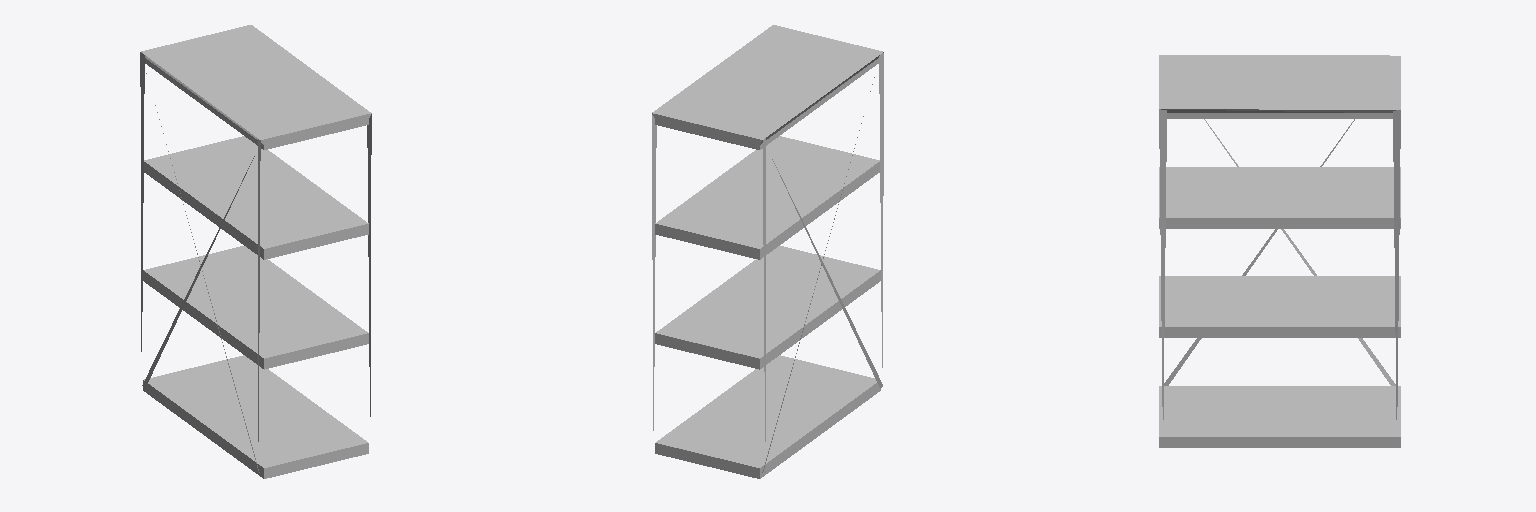
File: shelf_LoD_4.obj
3 renders of one model, left to right at view 1: azimuth 30°, elevation 25°; view 2: azimuth 150°, elevation 25°; view 3: azimuth 270°, elevation 25°, orthographic.
Parts seen in each view (by area): view 1: SM_ShelfRack_Mesh.001; view 2: SM_ShelfRack_Mesh.001; view 3: SM_ShelfRack_Mesh.001.
Boxes of the visible parts, box(x1,y1,x2,y2) form: SM_ShelfRack_Mesh.001: box(140, 25, 371, 478); SM_ShelfRack_Mesh.001: box(652, 25, 883, 478); SM_ShelfRack_Mesh.001: box(1159, 55, 1400, 447).
Bounding box in the file's own units: 0.6401 × 1.9 × 1.2.